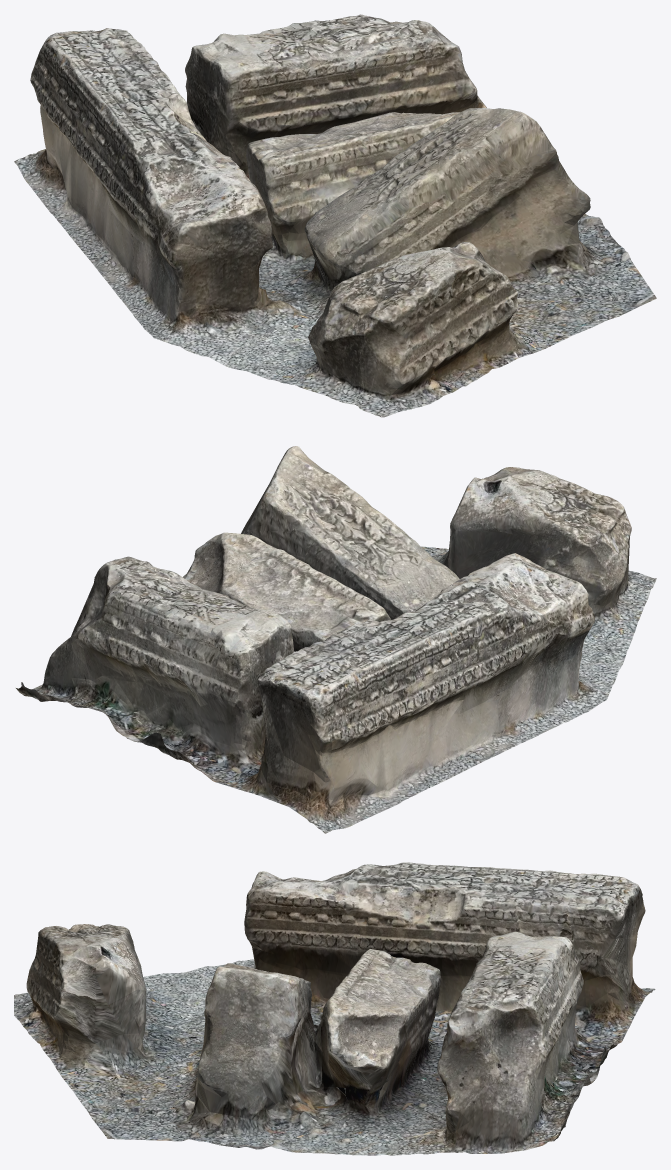
Rendered from carved-architectural-blocks-with-laurel-motifs.glb.
3 renders of one model, top to bottom at view 1: azimuth 30°, elevation 25°; view 2: azimuth 150°, elevation 25°; view 3: azimuth 270°, elevation 25°, orthographic. The views are drawn at different scales.
Visible parts, largest first — view 1: Object_3; view 2: Object_3; view 3: Object_3.
Boxes of the visible parts, x1=… form: Object_3: x1=14, y1=14, x2=656, y2=417; Object_3: x1=16, y1=446, x2=656, y2=833; Object_3: x1=14, y1=862, x2=655, y2=1155.
Size of the model in its own units: 1.94 by 0.6685 by 2.65.
Materials: 1 (1 with a texture image).
